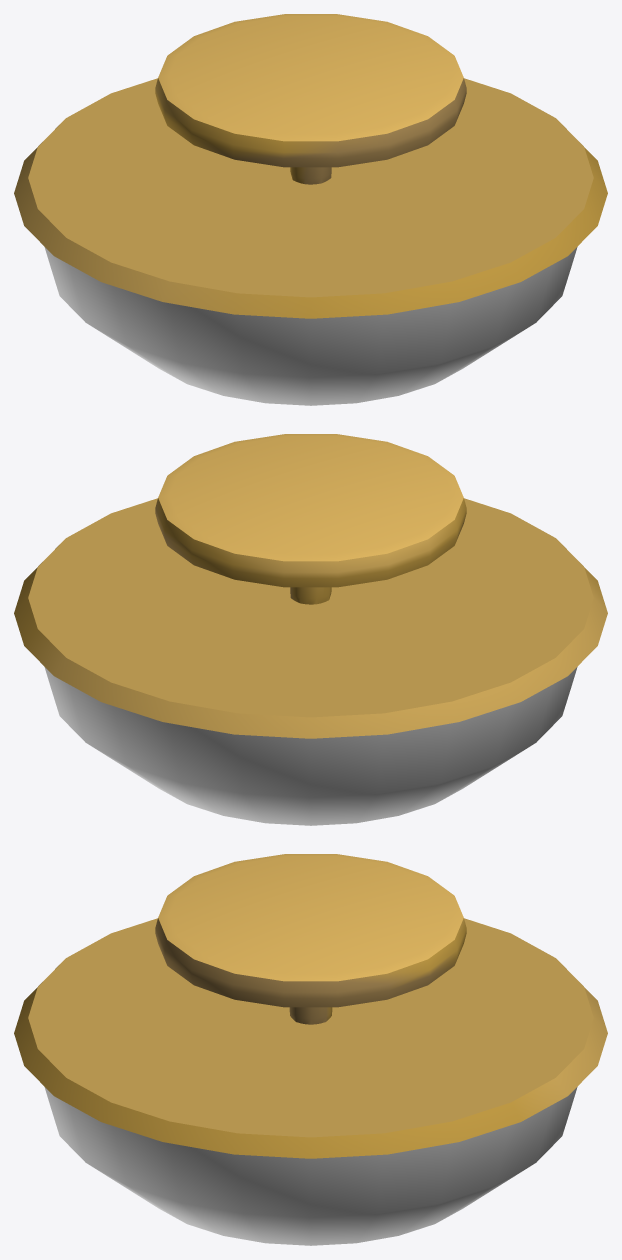
Rendered from CeilingLamp.fbx.
3 views of the same model, one above another, from view 1: azimuth 30°, elevation 25°; view 2: azimuth 150°, elevation 25°; view 3: azimuth 270°, elevation 25° (orthographic).
Parts seen in each view (by area): view 1: SM_Prop_CeilingLamp, SM_Prop_CeilingLamp_Glow; view 2: SM_Prop_CeilingLamp, SM_Prop_CeilingLamp_Glow; view 3: SM_Prop_CeilingLamp, SM_Prop_CeilingLamp_Glow.
Boxes of the visible parts, left/top/right/bottom form: SM_Prop_CeilingLamp: left=14, top=14, right=607, bottom=318; SM_Prop_CeilingLamp_Glow: left=44, top=247, right=577, bottom=405; SM_Prop_CeilingLamp: left=14, top=434, right=607, bottom=738; SM_Prop_CeilingLamp_Glow: left=44, top=667, right=577, bottom=825; SM_Prop_CeilingLamp: left=14, top=854, right=607, bottom=1158; SM_Prop_CeilingLamp_Glow: left=44, top=1087, right=577, bottom=1245.
Bounding box in the file's own units: 2.1 × 1.08 × 2.1.
